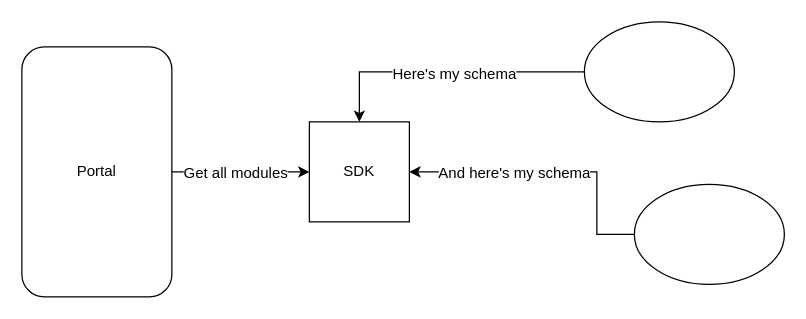
Image size: 806x319. Some labels were removed from this diagram. The shapes that lost their labels are listed below. From the top down, each one's centre as x and y in pixels, then its label:
At [658,71]: "Upload File Module".
At [708,233]: "Form Module".
